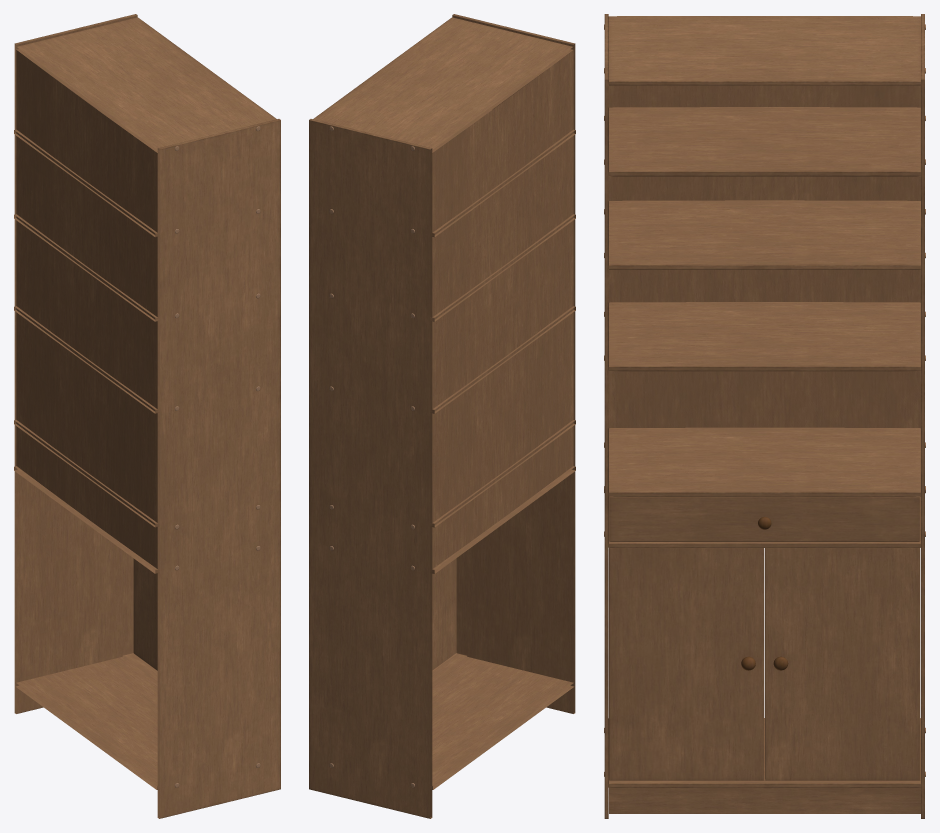
3 renders of one model, left to right at view 1: azimuth 30°, elevation 25°; view 2: azimuth 150°, elevation 25°; view 3: azimuth 270°, elevation 25°, orthographic. The views are drawn at different scales.
Visible parts, largest first — view 1: cabinet_wood; view 2: cabinet_wood; view 3: cabinet_wood.
Part boxes in pixels (box(x1,y1,x2,y2)): cabinet_wood: box(14, 14, 280, 818); cabinet_wood: box(309, 14, 575, 818); cabinet_wood: box(604, 14, 924, 818).
Size of the model in its own units: 36.73 by 182 by 71.64.
3 materials, 3 textured.
